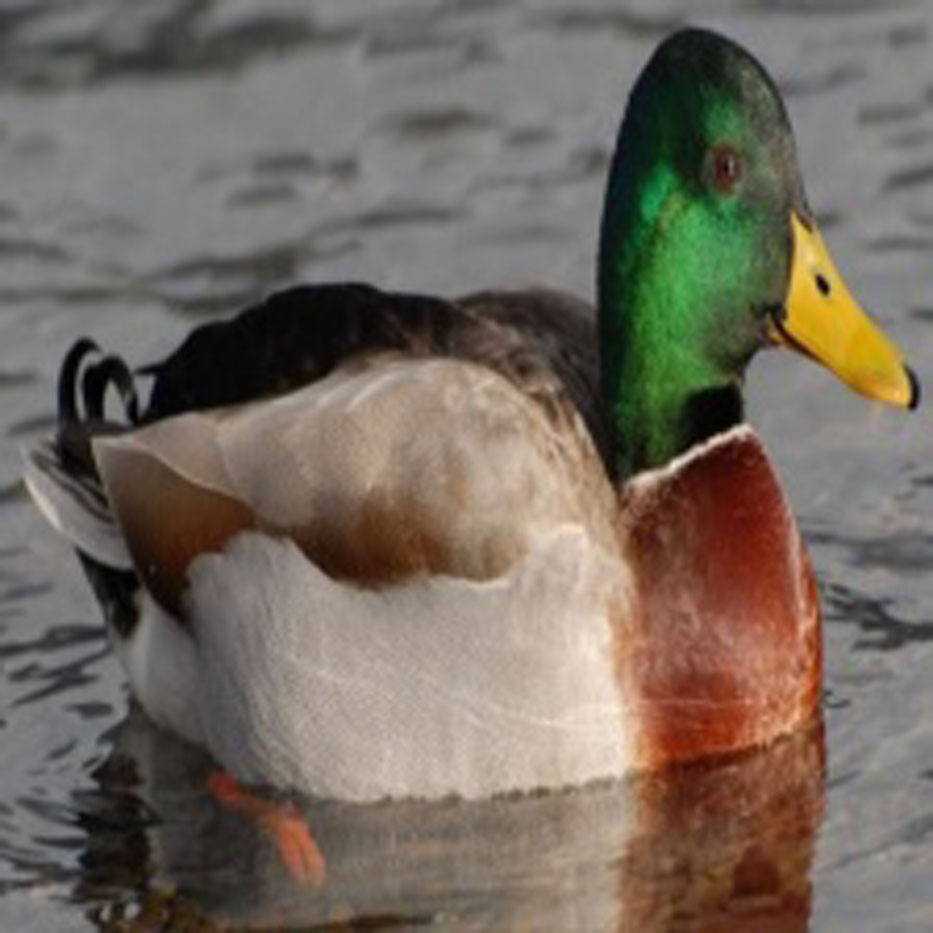Mencari Makan di Lumpur: (754, 195, 933, 407)
